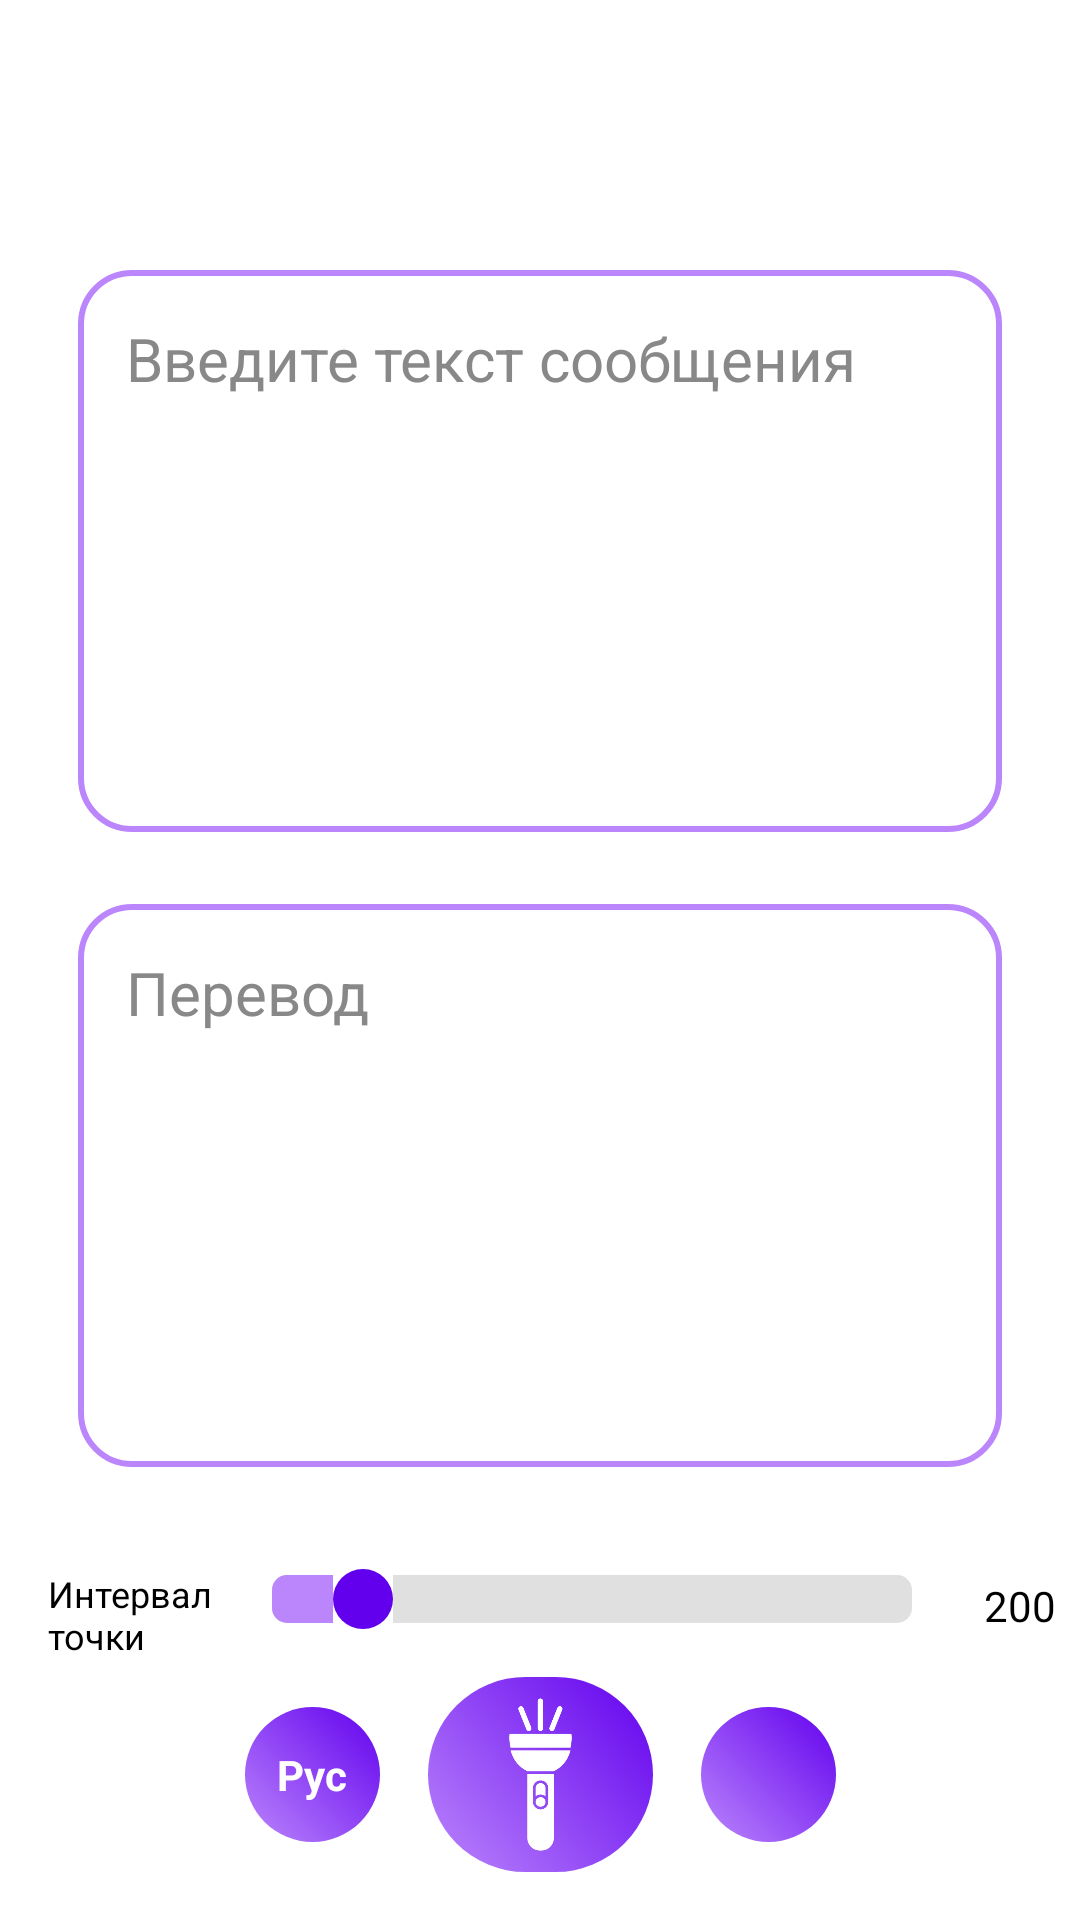

Screen size 1080w x 1920h. Icon name, then its center in pixels as [x,y]:
flash: [540,1774]
